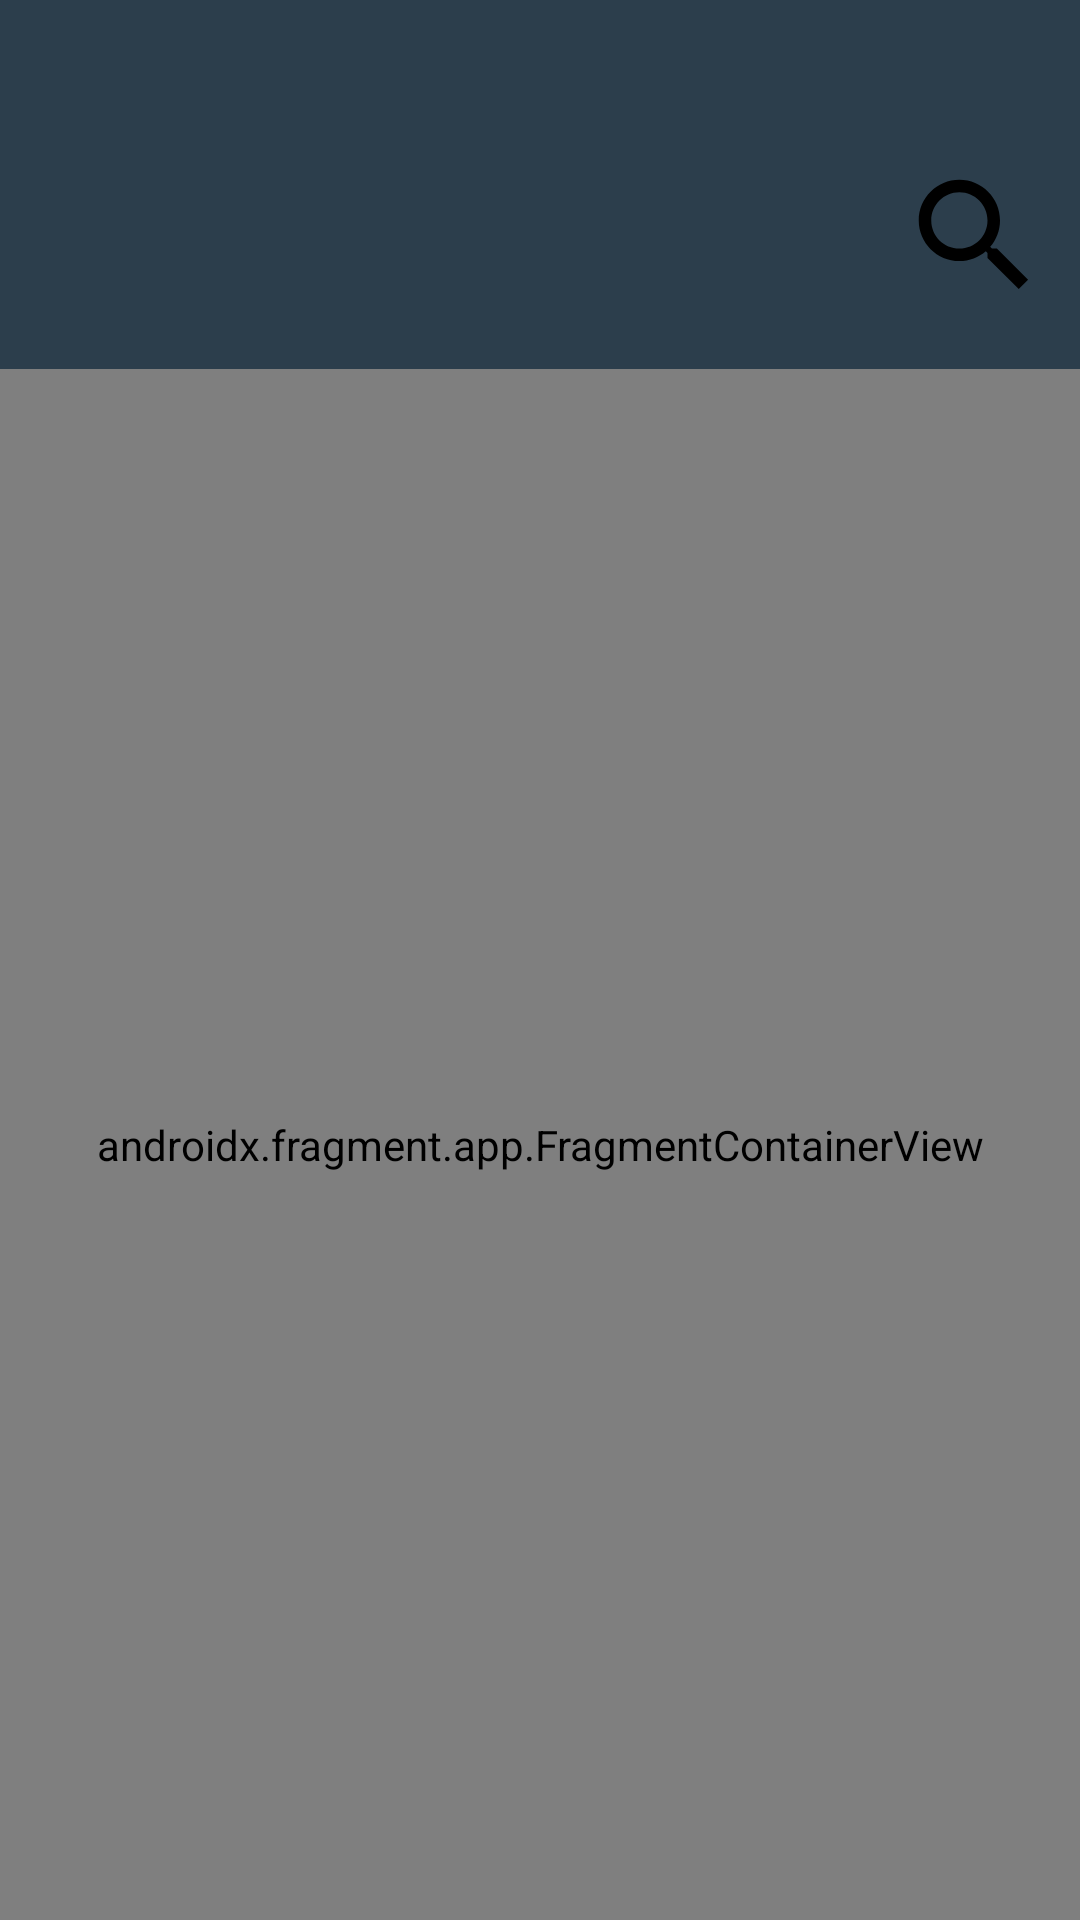

Point at icon controls on the screen. Image size 1080×1920, points as [x,y].
search: [973,234]
